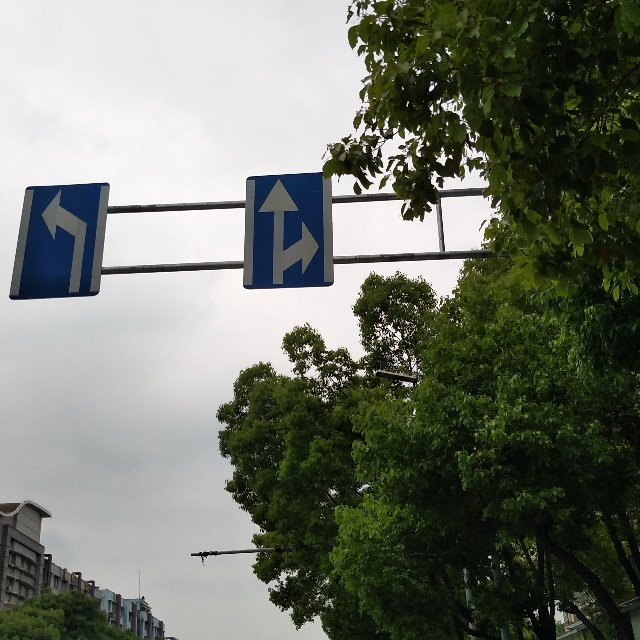left: (26, 187, 99, 294)
